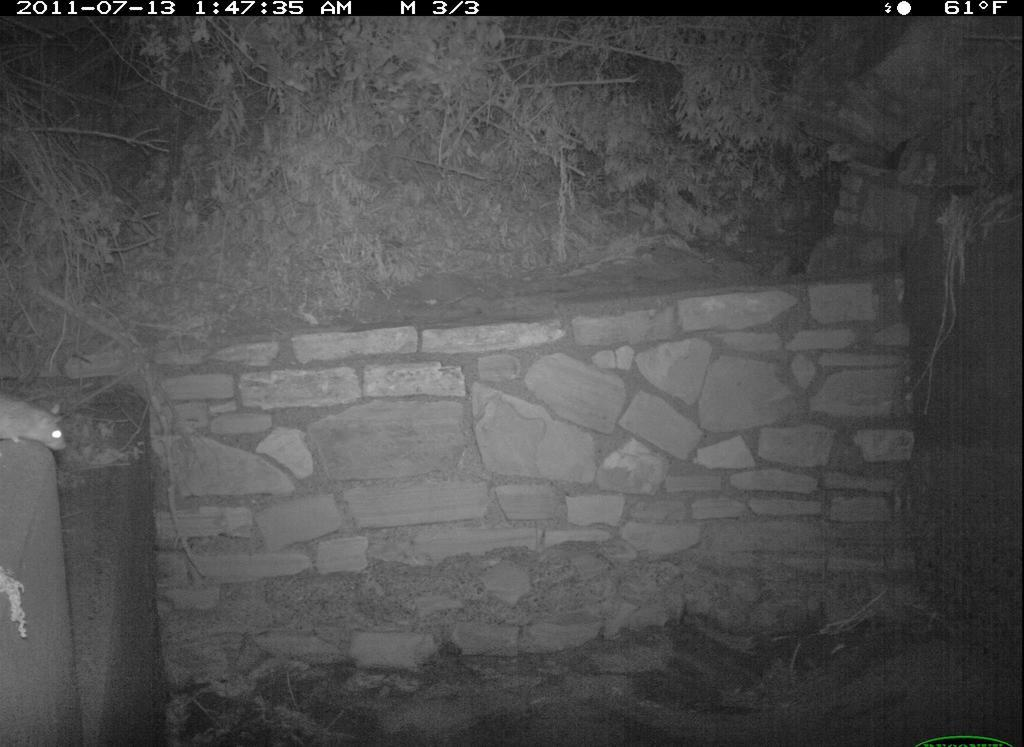rodent: (9, 395, 76, 464)
